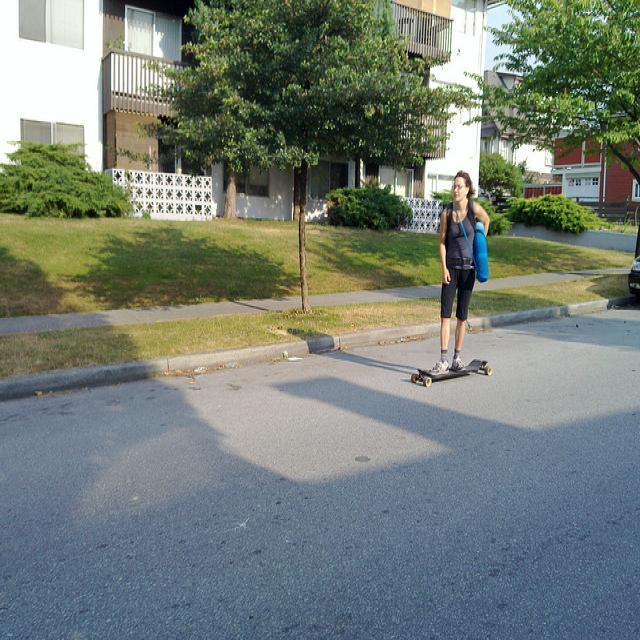Vehicle: (628, 254, 640, 301)
